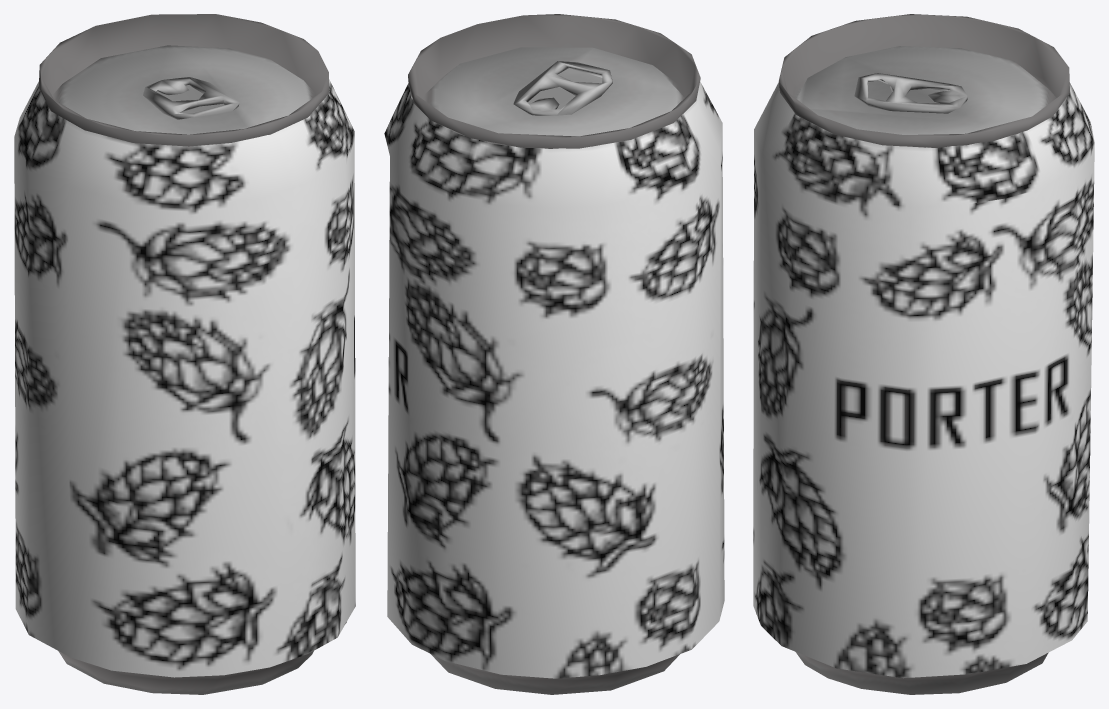
The model's file is BeerCanSmall.fbx.
3 views of the same model, side by side, from view 1: azimuth 30°, elevation 25°; view 2: azimuth 150°, elevation 25°; view 3: azimuth 270°, elevation 25° (orthographic).
Visible parts, largest first — view 1: can.001; view 2: can.001; view 3: can.001.
Boxes of the visible parts, x1=… form: can.001: x1=14, y1=14, x2=355, y2=694; can.001: x1=384, y1=14, x2=724, y2=694; can.001: x1=753, y1=14, x2=1094, y2=694.
Bounding box in the file's own units: 0.0533 × 0.0977 × 0.0534.
